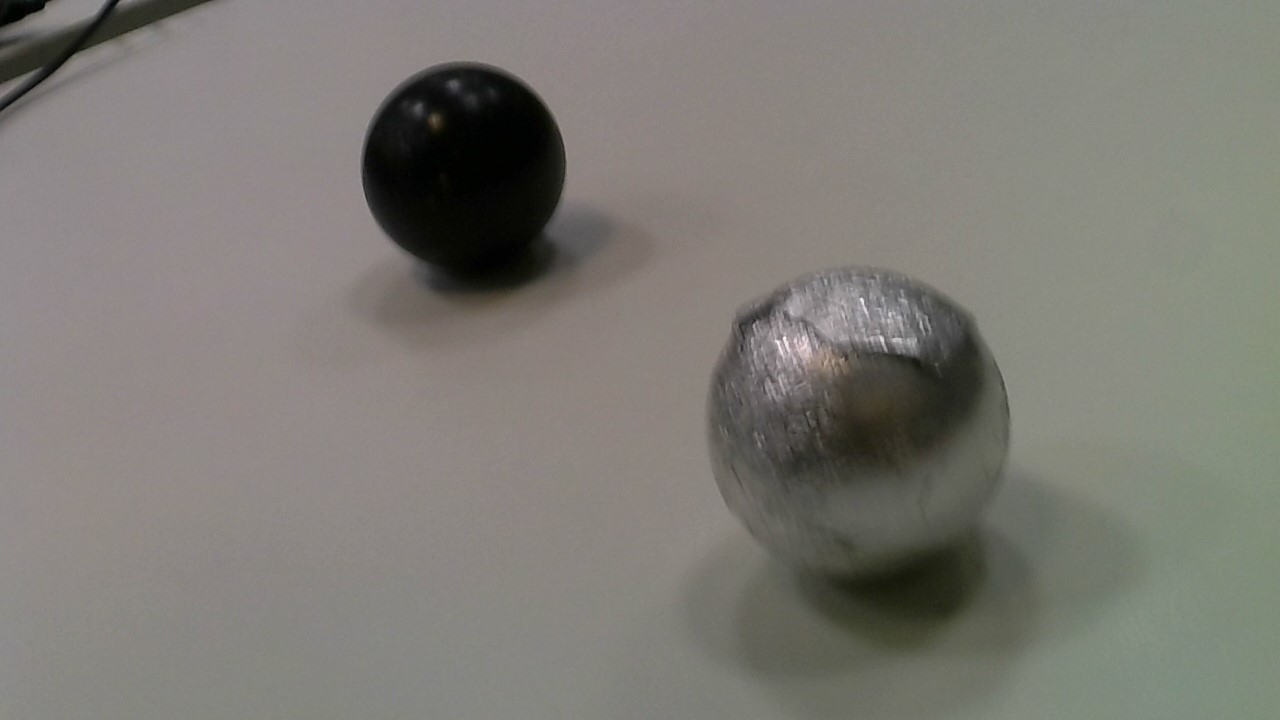black_ball: (356, 62, 575, 278)
silver_ball: (700, 256, 1020, 596)
